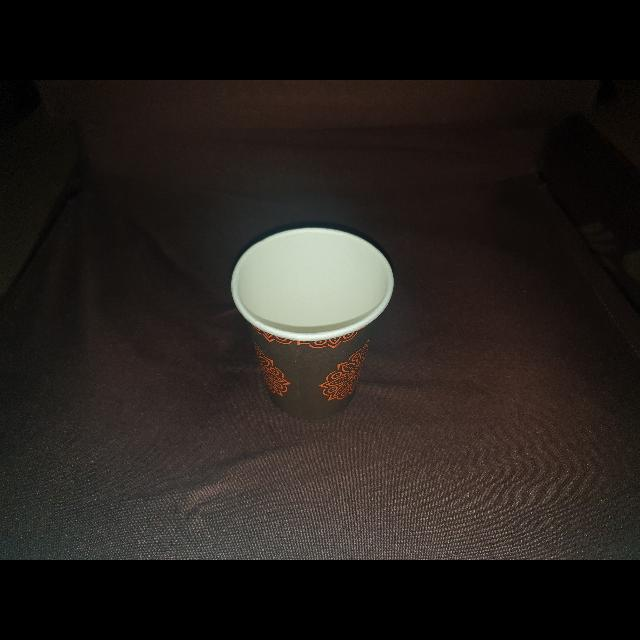trash: (226, 222, 400, 426)
